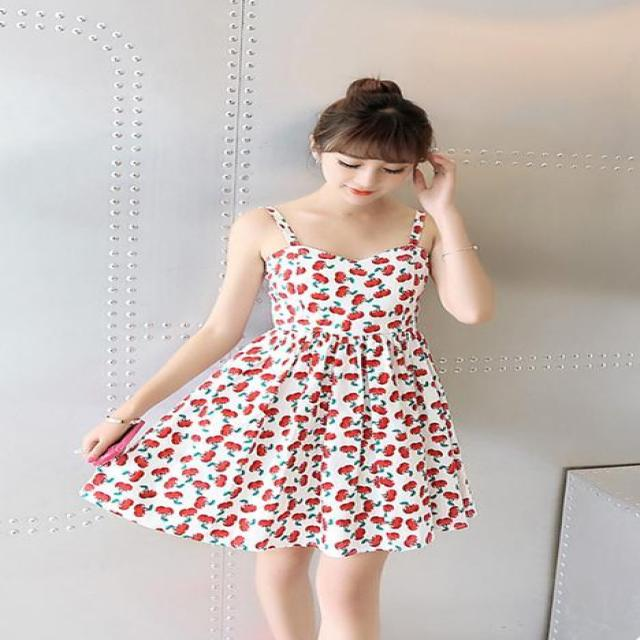sling dress: (82, 205, 480, 558)
